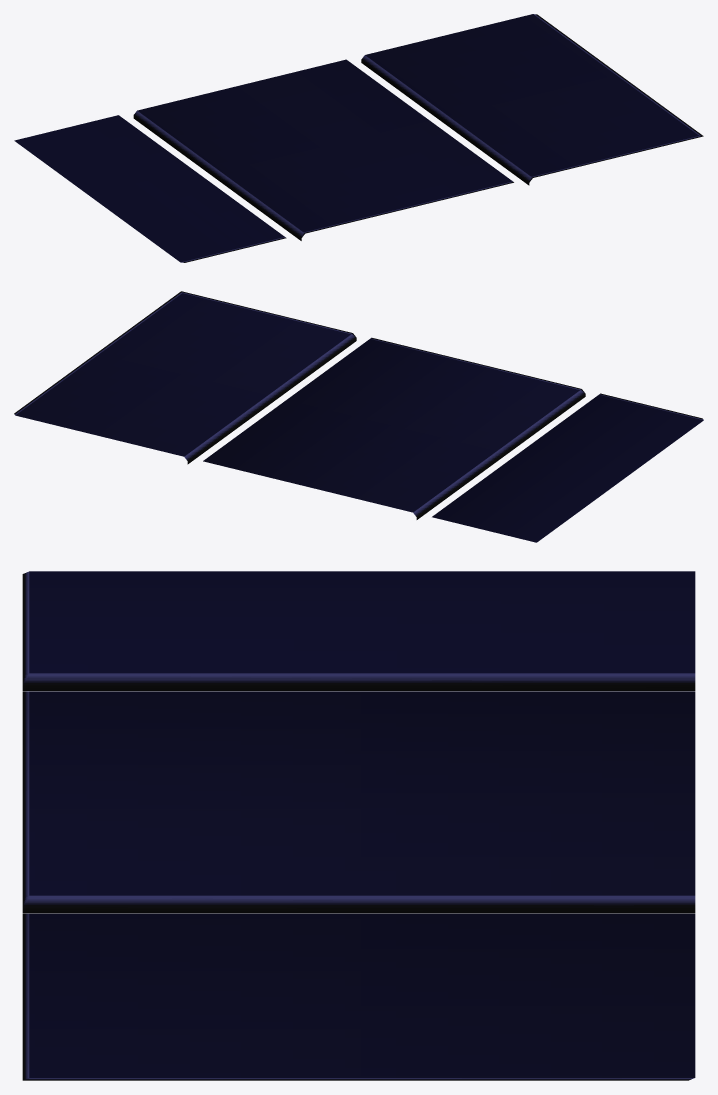
The picture shows the model from 3 angles, top to bottom: view 1: azimuth 30°, elevation 25°; view 2: azimuth 150°, elevation 25°; view 3: azimuth 270°, elevation 25°; orthographic projection. The views are drawn at different scales.
Visible parts, largest first — view 1: Joint_0_Object_0; view 2: Joint_0_Object_0; view 3: Joint_0_Object_0.
Boxes of the visible parts, x1=… form: Joint_0_Object_0: x1=14, y1=14, x2=703, y2=262; Joint_0_Object_0: x1=14, y1=291, x2=703, y2=542; Joint_0_Object_0: x1=22, y1=571, x2=695, y2=1080.
Size of the model in its own units: 3620 by 46 by 2020.
1 material, 1 textured.
